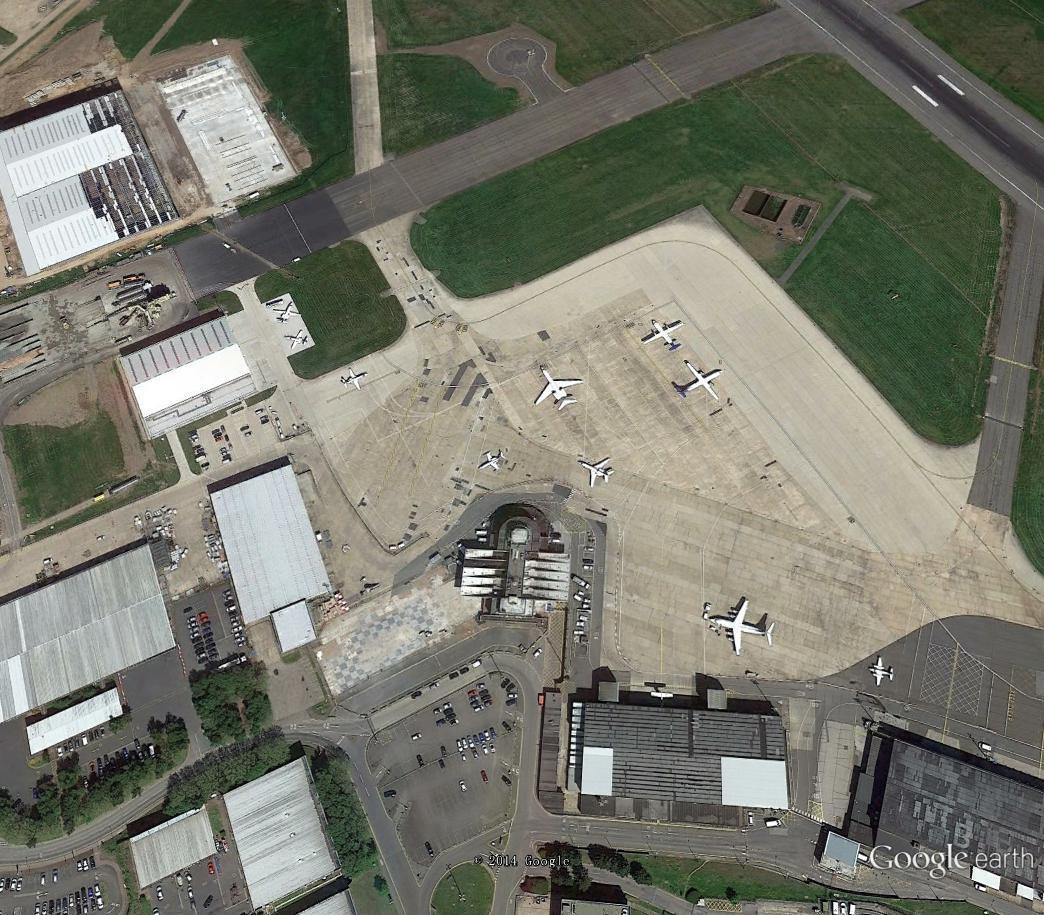aircraft: (702, 592, 778, 660), (528, 361, 589, 418), (670, 354, 729, 411), (636, 310, 687, 354), (574, 448, 624, 492), (574, 450, 621, 490), (864, 649, 898, 691), (474, 445, 510, 477), (339, 364, 372, 396), (265, 303, 309, 325), (285, 327, 313, 355)
